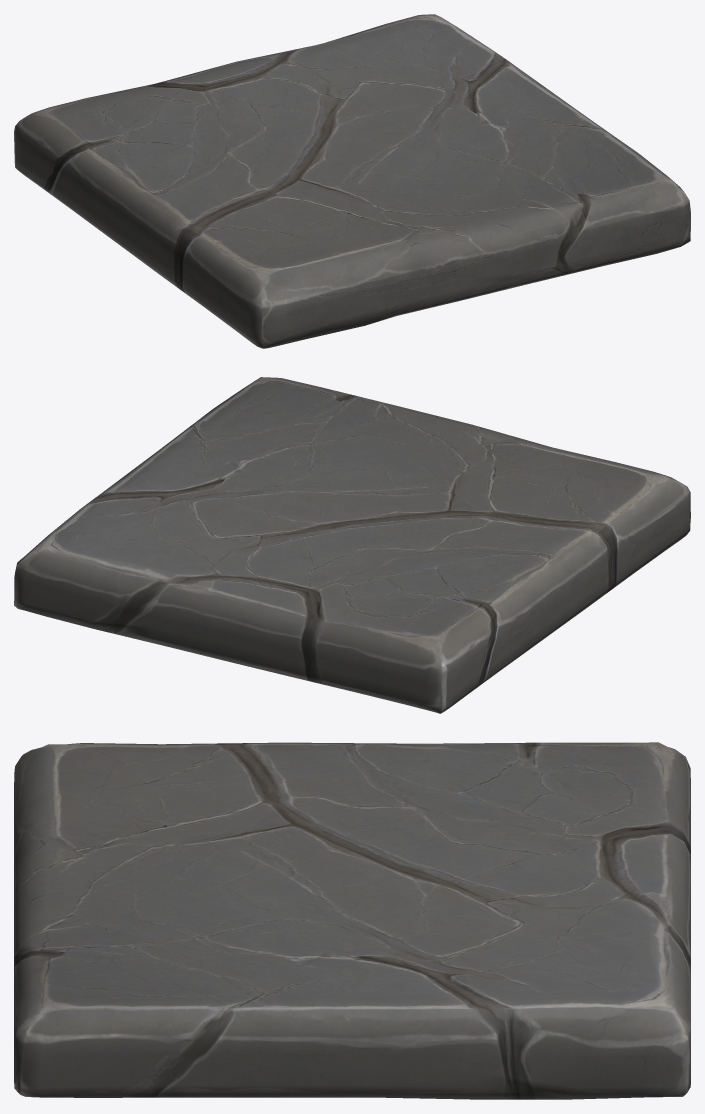
Rendered from Meshy_AI_Blue_green_Veined_Sla_0312111330_texture.fbx.
3 renders of one model, top to bottom at view 1: azimuth 30°, elevation 25°; view 2: azimuth 150°, elevation 25°; view 3: azimuth 270°, elevation 25°, orthographic. The views are drawn at different scales.
Visible parts, largest first — view 1: Mesh_0.013; view 2: Mesh_0.013; view 3: Mesh_0.013.
Part boxes in pixels (x1,y1,x2,y2): Mesh_0.013: (14, 14, 690, 348); Mesh_0.013: (14, 377, 690, 713); Mesh_0.013: (14, 742, 690, 1099).
Size of the model in its own units: 73.29 by 10 by 73.29.
1 material, 1 textured.
